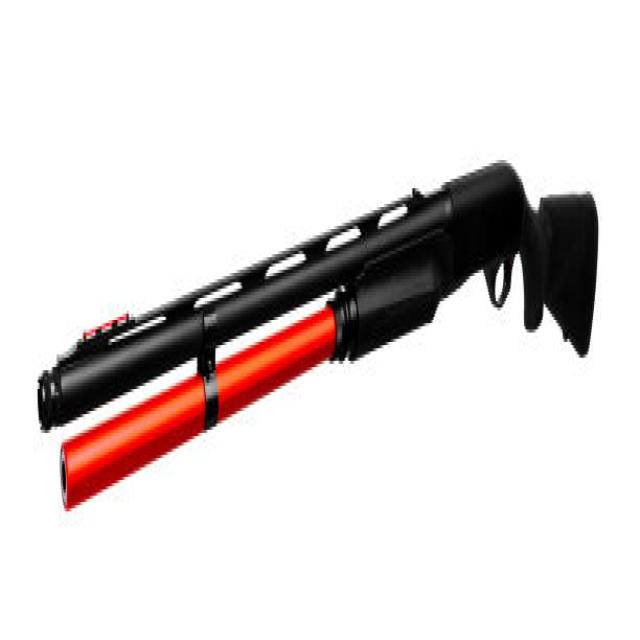rifle: (30, 147, 602, 532)
